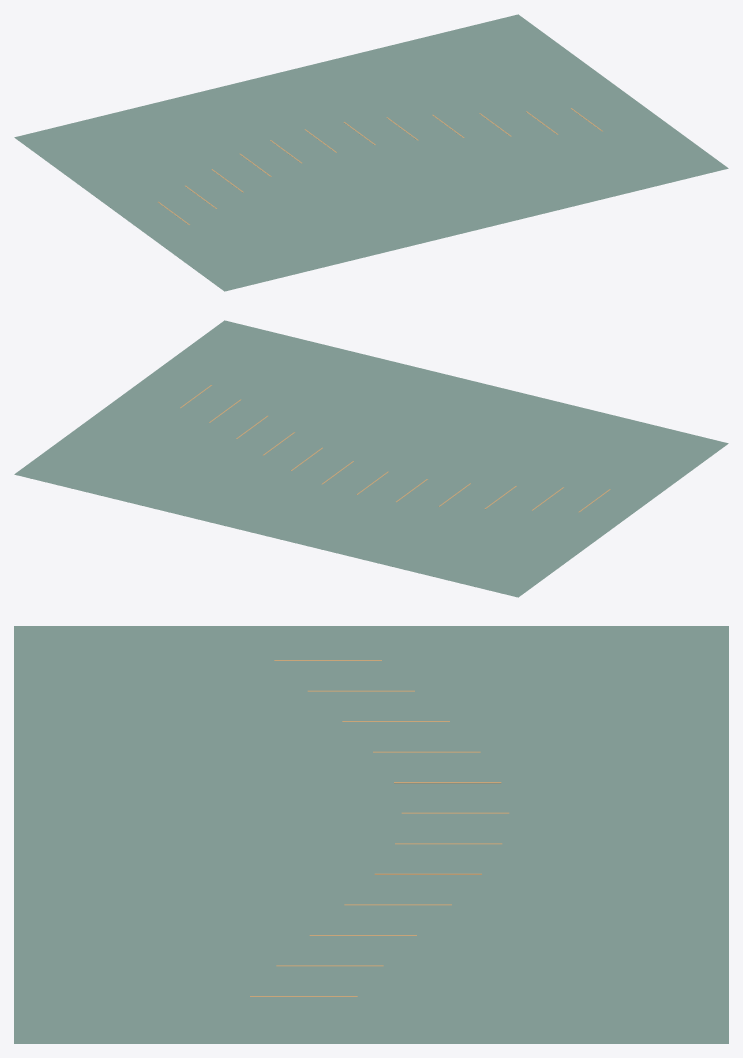
File: 269_L120_L4_LayerReference.glb
The picture shows the model from 3 angles, top to bottom: view 1: azimuth 30°, elevation 25°; view 2: azimuth 150°, elevation 25°; view 3: azimuth 270°, elevation 25°; orthographic projection. The views are drawn at different scales.
Parts seen in each view (by area): view 1: 0000__PSMAT__dielectric; view 2: 0000__PSMAT__dielectric; view 3: 0000__PSMAT__dielectric.
Boxes of the visible parts, box(x1,y1,x2,y2) form: 0000__PSMAT__dielectric: box(14, 14, 728, 291); 0000__PSMAT__dielectric: box(14, 320, 728, 597); 0000__PSMAT__dielectric: box(14, 626, 728, 1043).
Size of the model in its own units: 0.506 by 0.000196 by 0.366.
